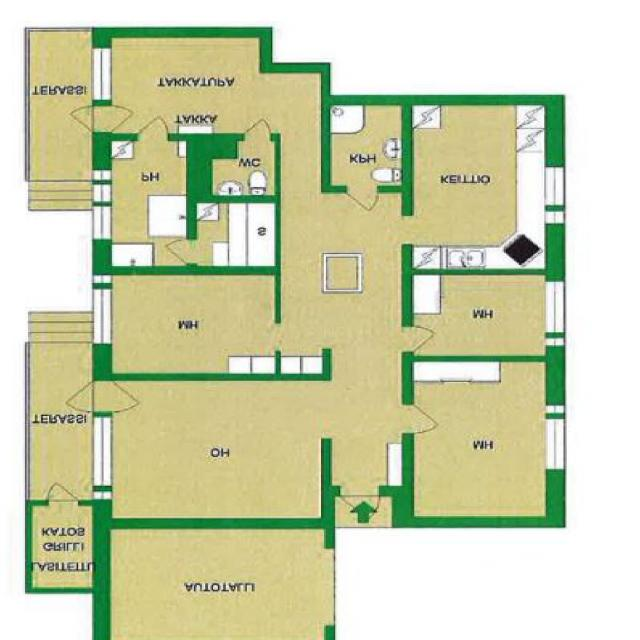door: (340, 486, 380, 530), (92, 382, 148, 412), (55, 382, 110, 412), (402, 404, 450, 434), (60, 106, 110, 132), (92, 106, 142, 132), (402, 326, 444, 352), (136, 108, 168, 140), (346, 185, 377, 218), (157, 240, 196, 263), (47, 476, 77, 505), (242, 112, 270, 140)
